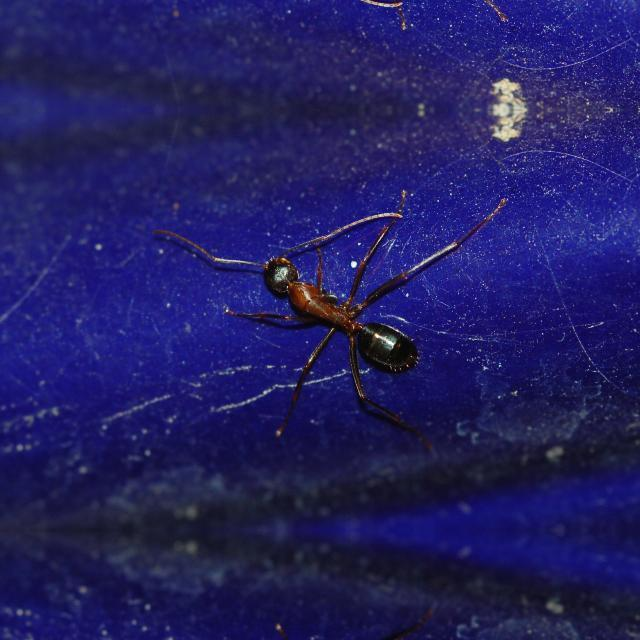Camponotus: (205, 210, 432, 410)
